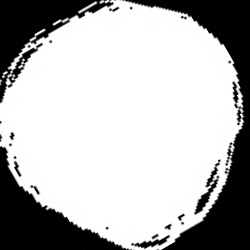spot: (0, 1, 244, 248)
